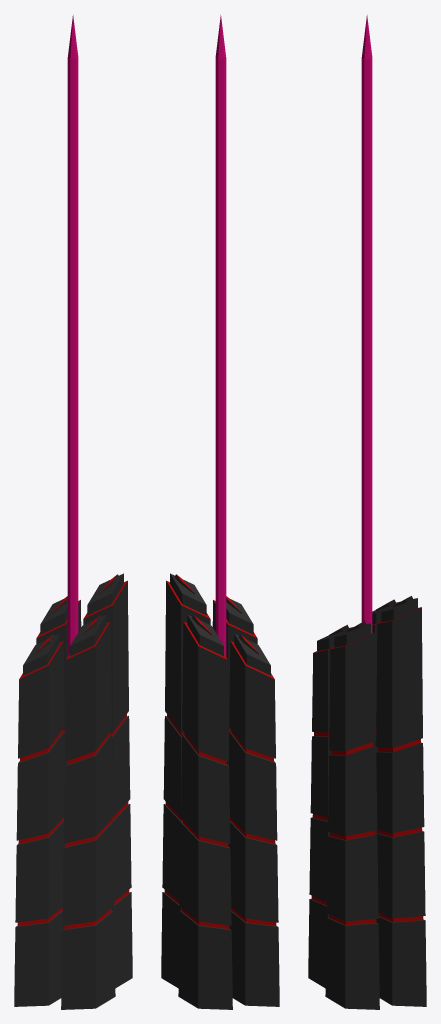
Rendered from Evil_Building.fbx.
The picture shows the model from 3 angles, left to right: view 1: azimuth 30°, elevation 25°; view 2: azimuth 150°, elevation 25°; view 3: azimuth 330°, elevation 25°; orthographic projection.
Visible parts, largest first — view 1: Evil_Building, Evil_Glowpole; view 2: Evil_Building, Evil_Glowpole; view 3: Evil_Building, Evil_Glowpole.
Boxes of the visible parts, x1,y1,x2,y2 form: Evil_Building: [14, 573, 132, 1009]; Evil_Glowpole: [67, 15, 78, 656]; Evil_Building: [161, 573, 279, 1009]; Evil_Glowpole: [215, 15, 226, 656]; Evil_Building: [308, 596, 426, 1009]; Evil_Glowpole: [361, 15, 372, 632].
Bounding box in the file's own units: 9.24 × 73.94 × 5.98.
